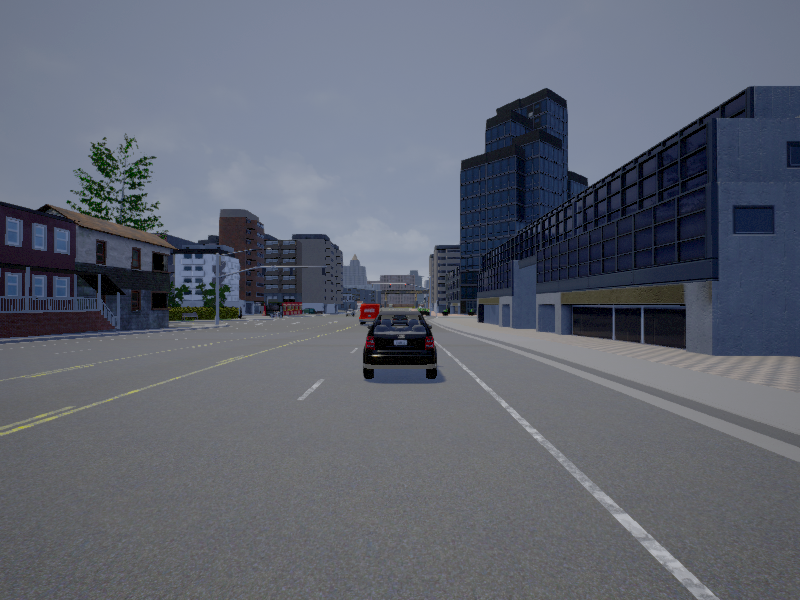Benign: (362, 309, 436, 378), (359, 306, 381, 324)
